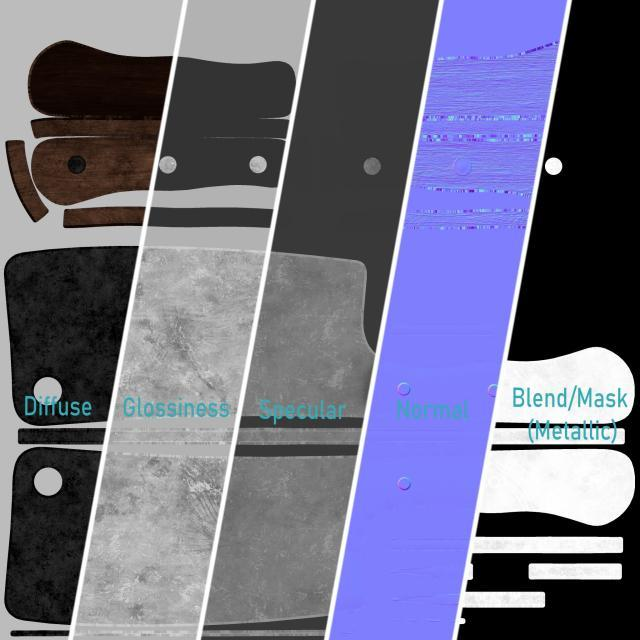cleaver: (0, 245, 636, 424)
